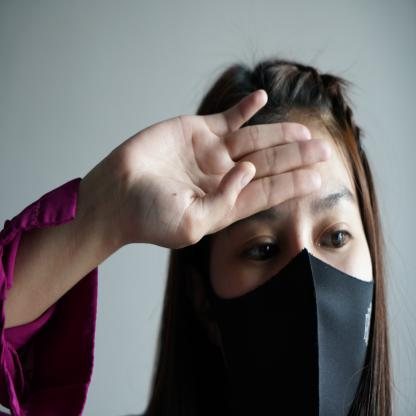Sick: (34, 87, 338, 252)
